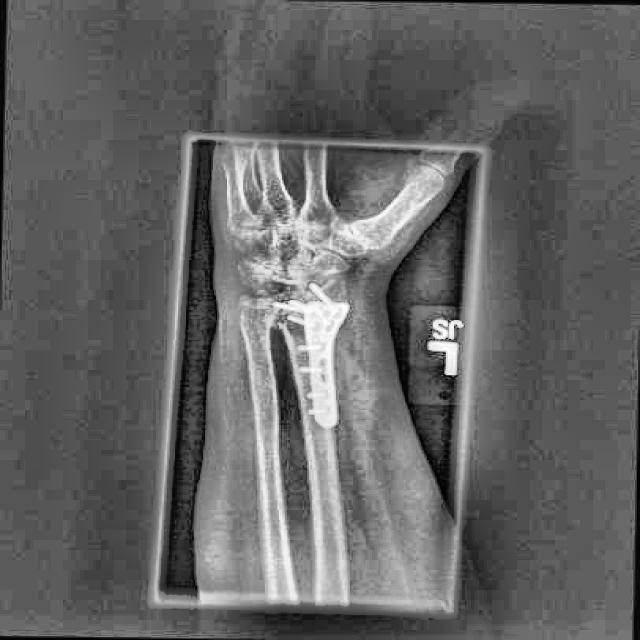fingers positive: (230, 292, 343, 342)
